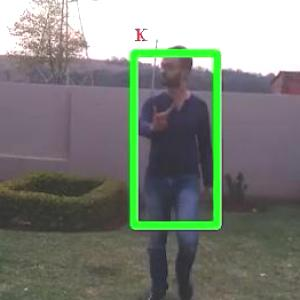takeoff-hand: (145, 94, 182, 133)
